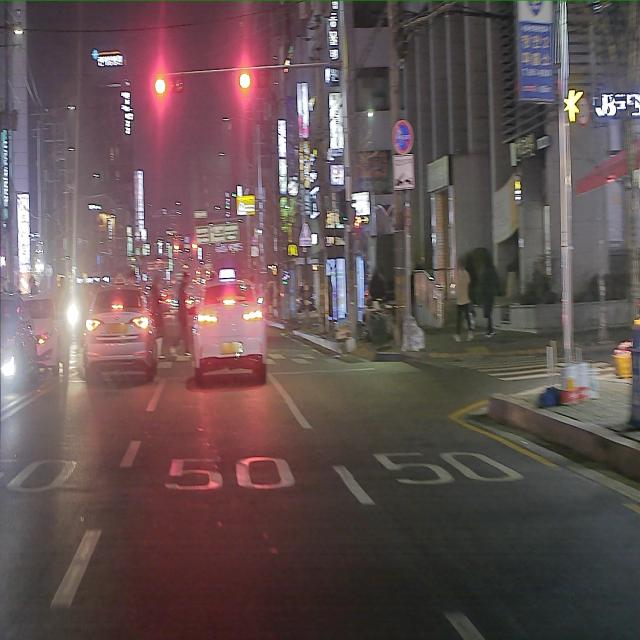Red Light: (238, 72, 250, 89), (155, 77, 166, 95)
